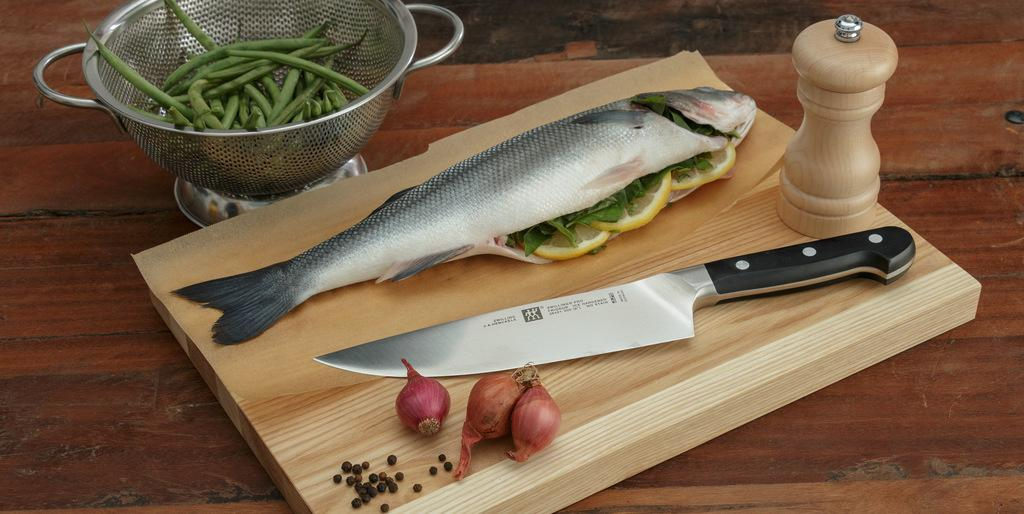Knife: (312, 225, 916, 379)
